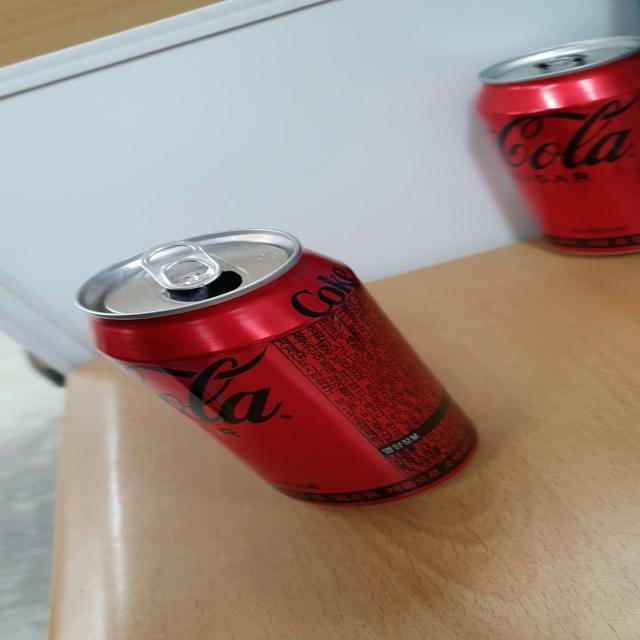coca-cola: (61, 222, 502, 510), (454, 25, 640, 266)
